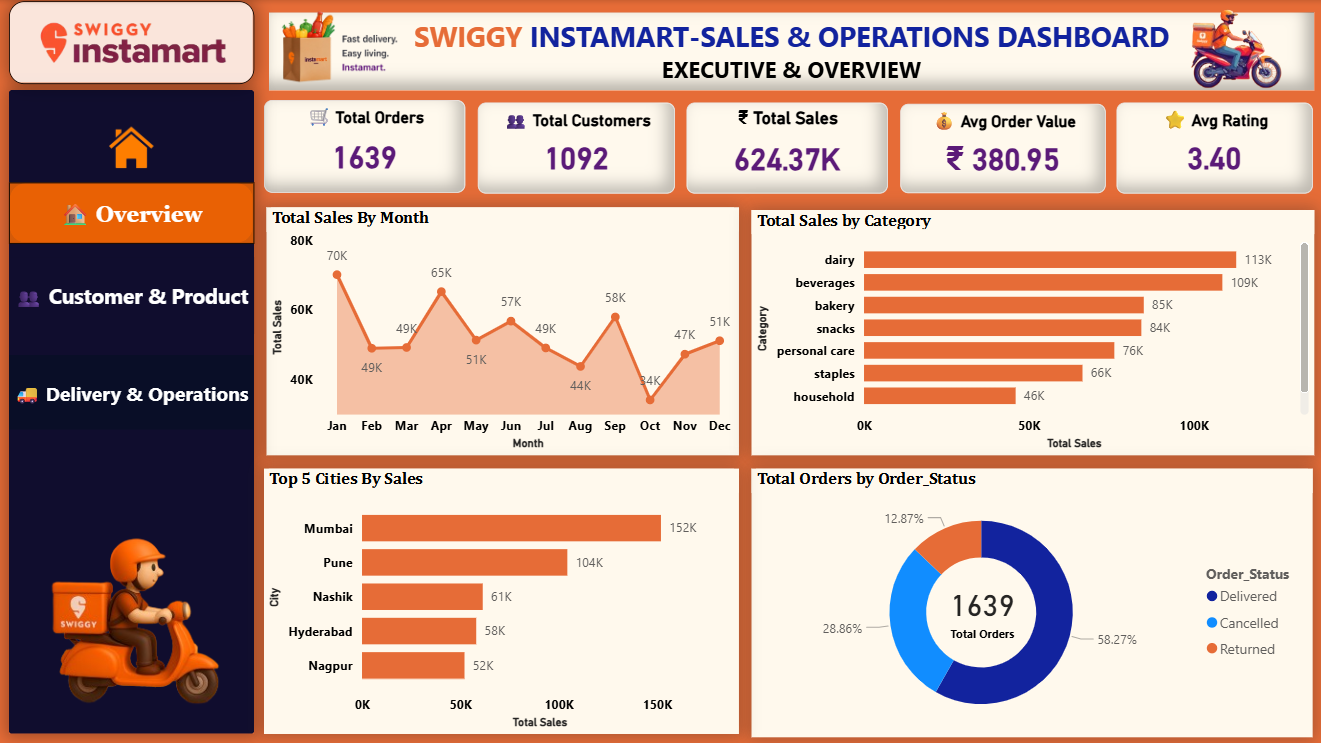

Layout of this report page (visuals, bound fields, positions):
{"tool":"powerbi","page":{"name":"OVERVIEW","canvas":[1280,720],"ordinal":1},"visuals":[{"type":"card","title":" 🛒 Total Orders","fields":{"Values":["Table.Total Quantity"]},"box":[258.2,97.7,194.2,89.3],"z":0},{"type":"textbox","box":[260,12.5,1008.8,75],"z":1000},{"type":"lineChart","fields":{"Y":["Table.Total Sales"],"Category":["DateTable.Month"]},"box":[258.2,200.3,456,238.9],"z":2000},{"type":"shape","box":[9.7,91.7,236.5,616.5],"z":3000},{"type":"image","box":[9.7,6,236.5,79.6],"z":4000},{"type":"image","box":[95.3,119.4,65.1,45.8],"z":5000},{"type":"image","box":[0,462.1,269,246.1],"z":6000},{"type":"image","box":[953.1,6,250.9,74.8],"z":7000},{"type":"card","title":"👥 Total Customers","fields":{"Values":["Table.Total Customers"]},"box":[462.1,98.9,190.6,88.1],"z":8000},{"type":"card","title":"₹ Total Sales","fields":{"Values":["Table.Total Sales"]},"box":[663.5,98.9,194.2,88.1],"z":9000},{"type":"card","title":"⭐ Avg Rating","fields":{"Values":["Table.Average Ratings"]},"box":[870,99.6,189,88],"z":10000},{"type":"image","box":[1119.6,0,148.4,91.7],"z":11000},{"type":"actionButton","box":[10.1,176,236.6,59.2],"z":12000},{"type":"barChart","fields":{"Category":["swiggy_instamartdb swiggy_instamart_final.Category"],"Y":["Table.Total Sales"]},"box":[725.7,203.4,542.5,236.6],"z":13000},{"type":"donutChart","fields":{"Category":["swiggy_instamartdb swiggy_instamart_final.Order_Status"],"Y":["Table.Total Orders"]},"box":[725.7,451.6,542.5,259.7],"z":14000},{"type":"barChart","fields":{"Y":["Table.Total Sales"],"Category":["swiggy_instamartdb swiggy_instamart_final.City"]},"box":[256.8,451.6,457.4,256.8],"z":15000},{"type":"actionButton","box":[9.8,342.4,236,72.1],"z":16000},{"type":"actionButton","box":[10.1,248.2,236.6,73.6],"z":17000},{"type":"card","title":"Avg Delivery Time","fields":{"Values":["Table.Avg Delivery Time"]},"box":[1069.1,99.6,199.1,88],"z":18000}]}

Visuals, with their boxes in screenshot pixels (x1, y1, x2, y2), scaled from the page's 1280x720 canvas onto the 1321x743 screenshot:
" 🛒 Total Orders" card: [266,101,467,193]
textbox: [268,13,1309,90]
lineChart - Table.Total Sales x DateTable.Month: [266,207,737,453]
shape: [10,95,254,731]
image: [10,6,254,88]
image: [98,123,166,170]
image: [0,477,278,731]
image: [984,6,1243,83]
"👥 Total Customers" card: [477,102,674,193]
"₹ Total Sales" card: [685,102,885,193]
"⭐ Avg Rating" card: [898,103,1093,194]
image: [1155,0,1309,95]
actionButton: [10,182,255,243]
barChart - swiggy_instamartdb swiggy_instamart_final.Category x Table.Total Sales: [749,210,1309,454]
donutChart - swiggy_instamartdb swiggy_instamart_final.Order_Status x Table.Total Orders: [749,466,1309,734]
barChart - Table.Total Sales x swiggy_instamartdb swiggy_instamart_final.City: [265,466,737,731]
actionButton: [10,353,254,428]
actionButton: [10,256,255,332]
"Avg Delivery Time" card: [1103,103,1309,194]
